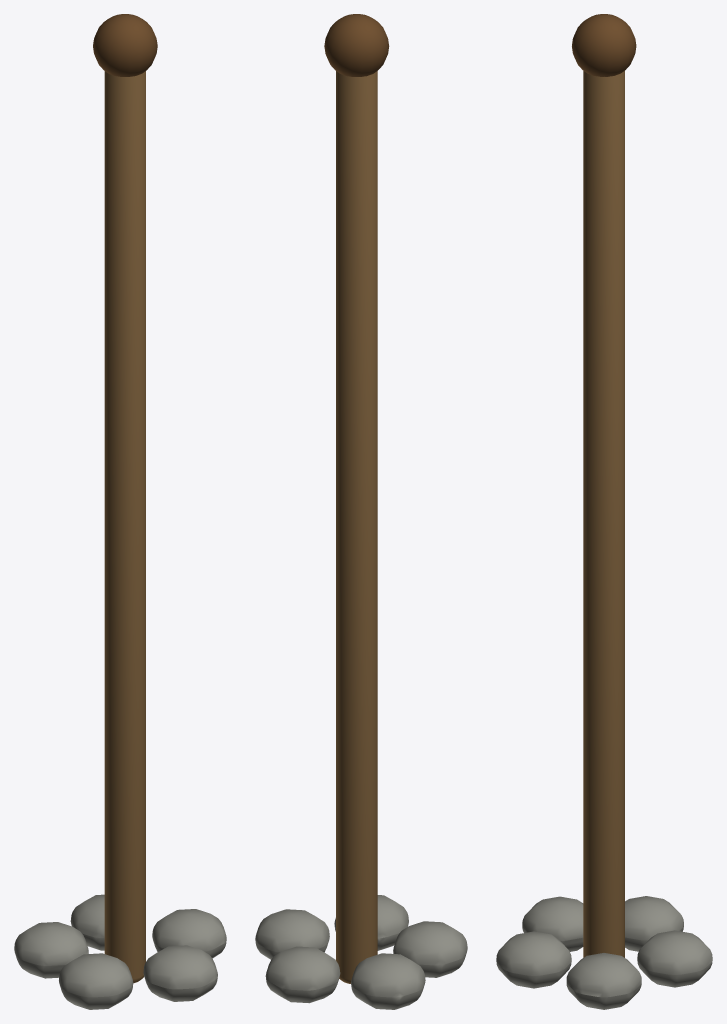
The model's file is stick.glb.
The picture shows the model from 3 angles, left to right: view 1: azimuth 30°, elevation 25°; view 2: azimuth 150°, elevation 25°; view 3: azimuth 270°, elevation 25°; orthographic projection.
Visible parts, largest first — view 1: stick; view 2: stick; view 3: stick.
Part boxes in pixels (<box>): stick: <box>14,14,226,1009</box>; stick: <box>255,14,467,1009</box>; stick: <box>496,14,712,1009</box>.
Bounding box in the file's own units: 0.4541 × 2.29 × 0.468.
